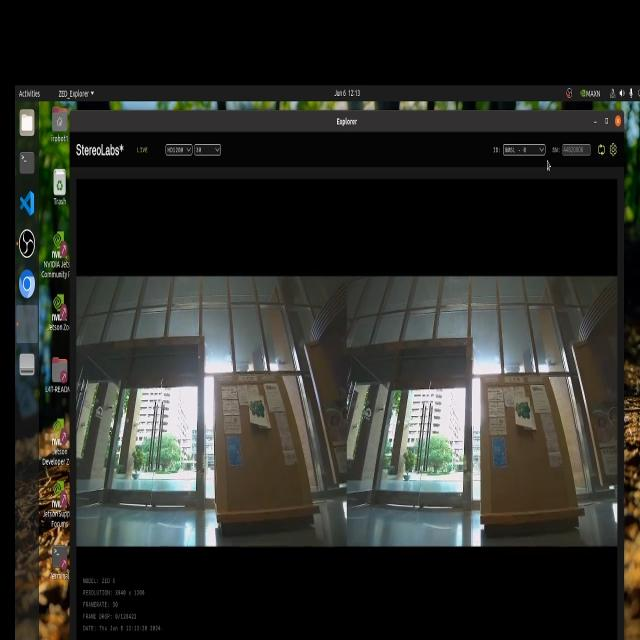green: (514, 395, 535, 428), (249, 406, 271, 429)
